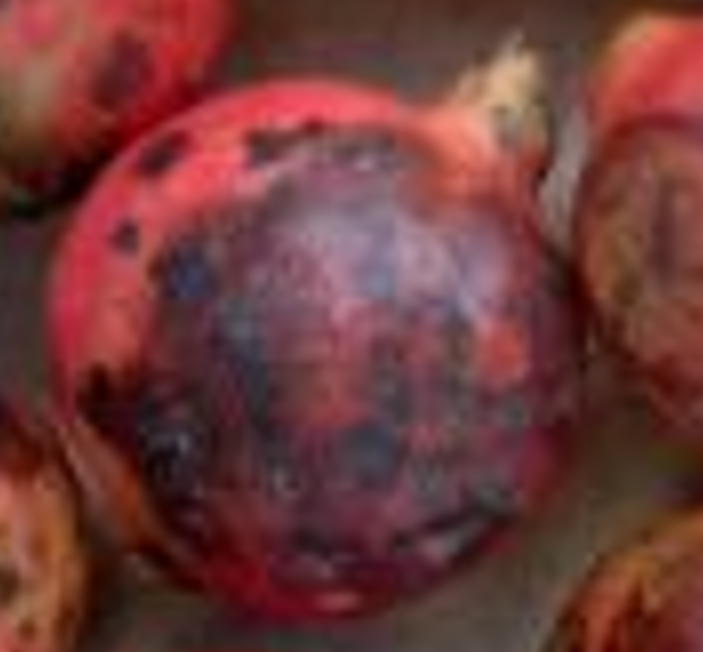pomegranate_C: (40, 29, 591, 627)
